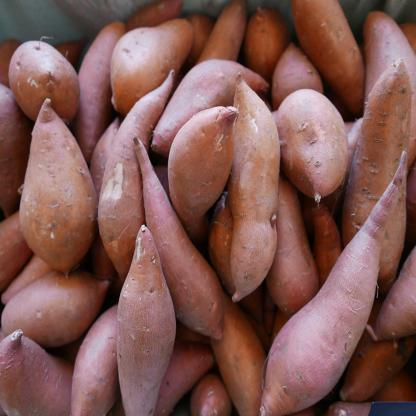---: (251, 146, 413, 416), (17, 96, 101, 277), (109, 216, 181, 416), (228, 63, 278, 309), (162, 86, 236, 248)
